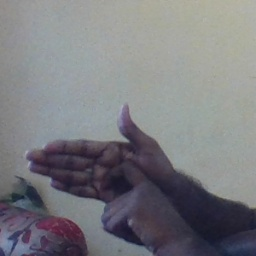R: (28, 103, 173, 248)
